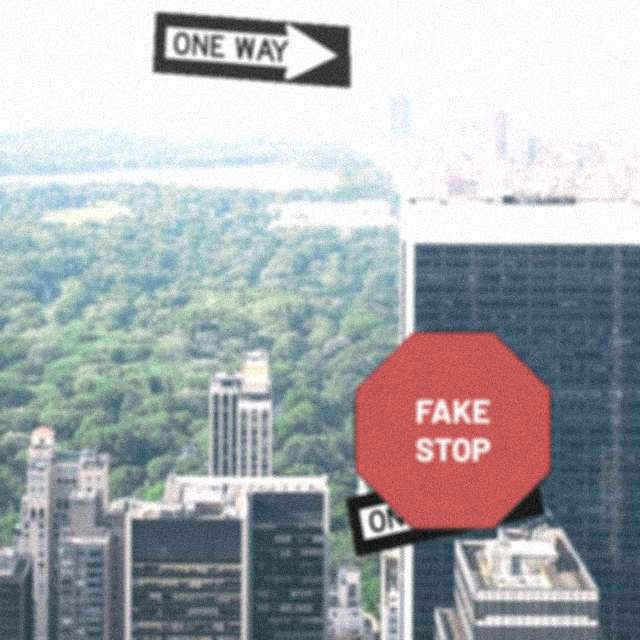FAKE_STOP: (354, 331, 552, 530)
ONE_WAY_ right: (345, 455, 544, 557), (152, 11, 351, 88)
